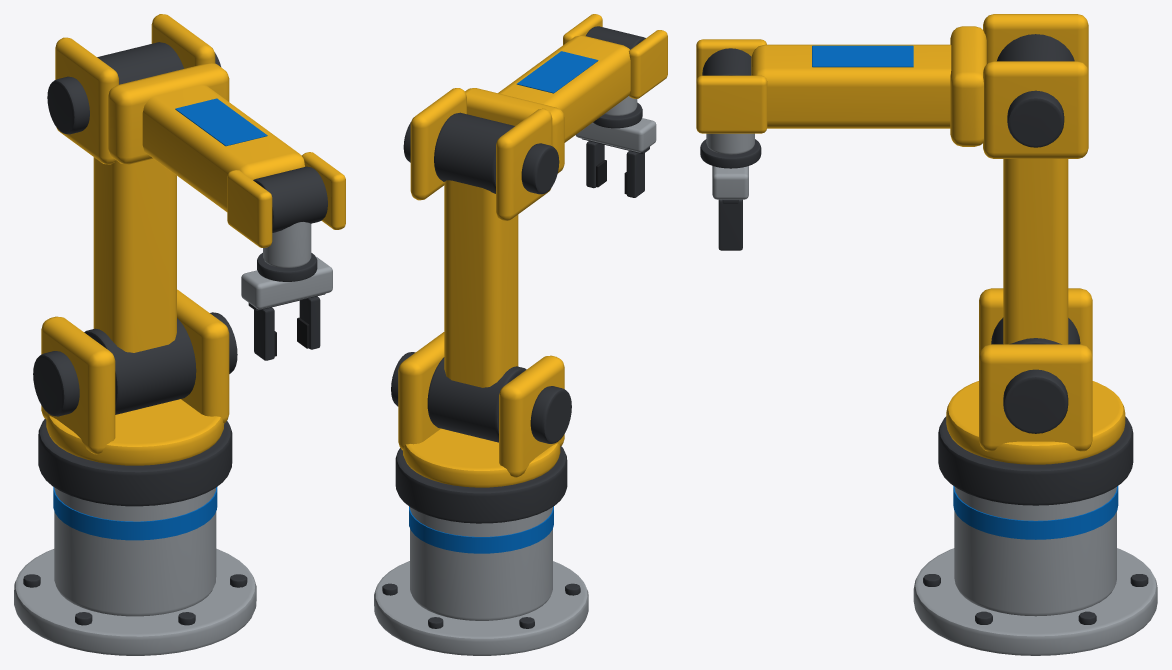
File: robot_arm.glb
3 views of the same model, side by side, from view 1: azimuth 30°, elevation 25°; view 2: azimuth 150°, elevation 25°; view 3: azimuth 270°, elevation 25° (orthographic). The views are drawn at different scales.
Visible parts, largest first — view 1: arm_pedestal_geo, arm_base_geo, arm_j2_geo, arm_j1_geo, arm_j3_geo, gripper_geo, finger_L_geo, finger_R_geo; view 2: arm_pedestal_geo, arm_j1_geo, arm_base_geo, arm_j2_geo, gripper_geo, arm_j3_geo, finger_L_geo, finger_R_geo; view 3: arm_j2_geo, arm_pedestal_geo, arm_base_geo, arm_j1_geo, gripper_geo, arm_j3_geo, finger_L_geo.
Part boxes in pixels (left/top/right/bottom): arm_pedestal_geo: left=14, top=487, right=256, bottom=655; arm_base_geo: left=33, top=289, right=237, bottom=506; arm_j2_geo: left=47, top=14, right=345, bottom=247; arm_j1_geo: left=84, top=42, right=196, bottom=414; arm_j3_geo: left=253, top=166, right=327, bottom=267; gripper_geo: left=241, top=253, right=332, bottom=310; finger_L_geo: left=297, top=296, right=320, bottom=349; finger_R_geo: left=254, top=307, right=276, bottom=360; arm_pedestal_geo: left=374, top=506, right=588, bottom=655; arm_j1_geo: left=427, top=112, right=526, bottom=442; arm_base_geo: left=391, top=332, right=571, bottom=523; arm_j2_geo: left=403, top=14, right=667, bottom=220; gripper_geo: left=575, top=102, right=656, bottom=153; arm_j3_geo: left=586, top=26, right=645, bottom=115; finger_L_geo: left=586, top=141, right=606, bottom=188; finger_R_geo: left=624, top=151, right=644, bottom=197; arm_j2_geo: left=696, top=14, right=1088, bottom=158; arm_pedestal_geo: left=913, top=486, right=1157, bottom=655; arm_base_geo: left=938, top=288, right=1133, bottom=505; arm_j1_geo: left=991, top=34, right=1080, bottom=344; gripper_geo: left=700, top=139, right=761, bottom=203; arm_j3_geo: left=702, top=48, right=754, bottom=154; finger_L_geo: left=718, top=199, right=742, bottom=250.
Bounding box in the file's own units: 0.6 × 1.54 × 1.13.
